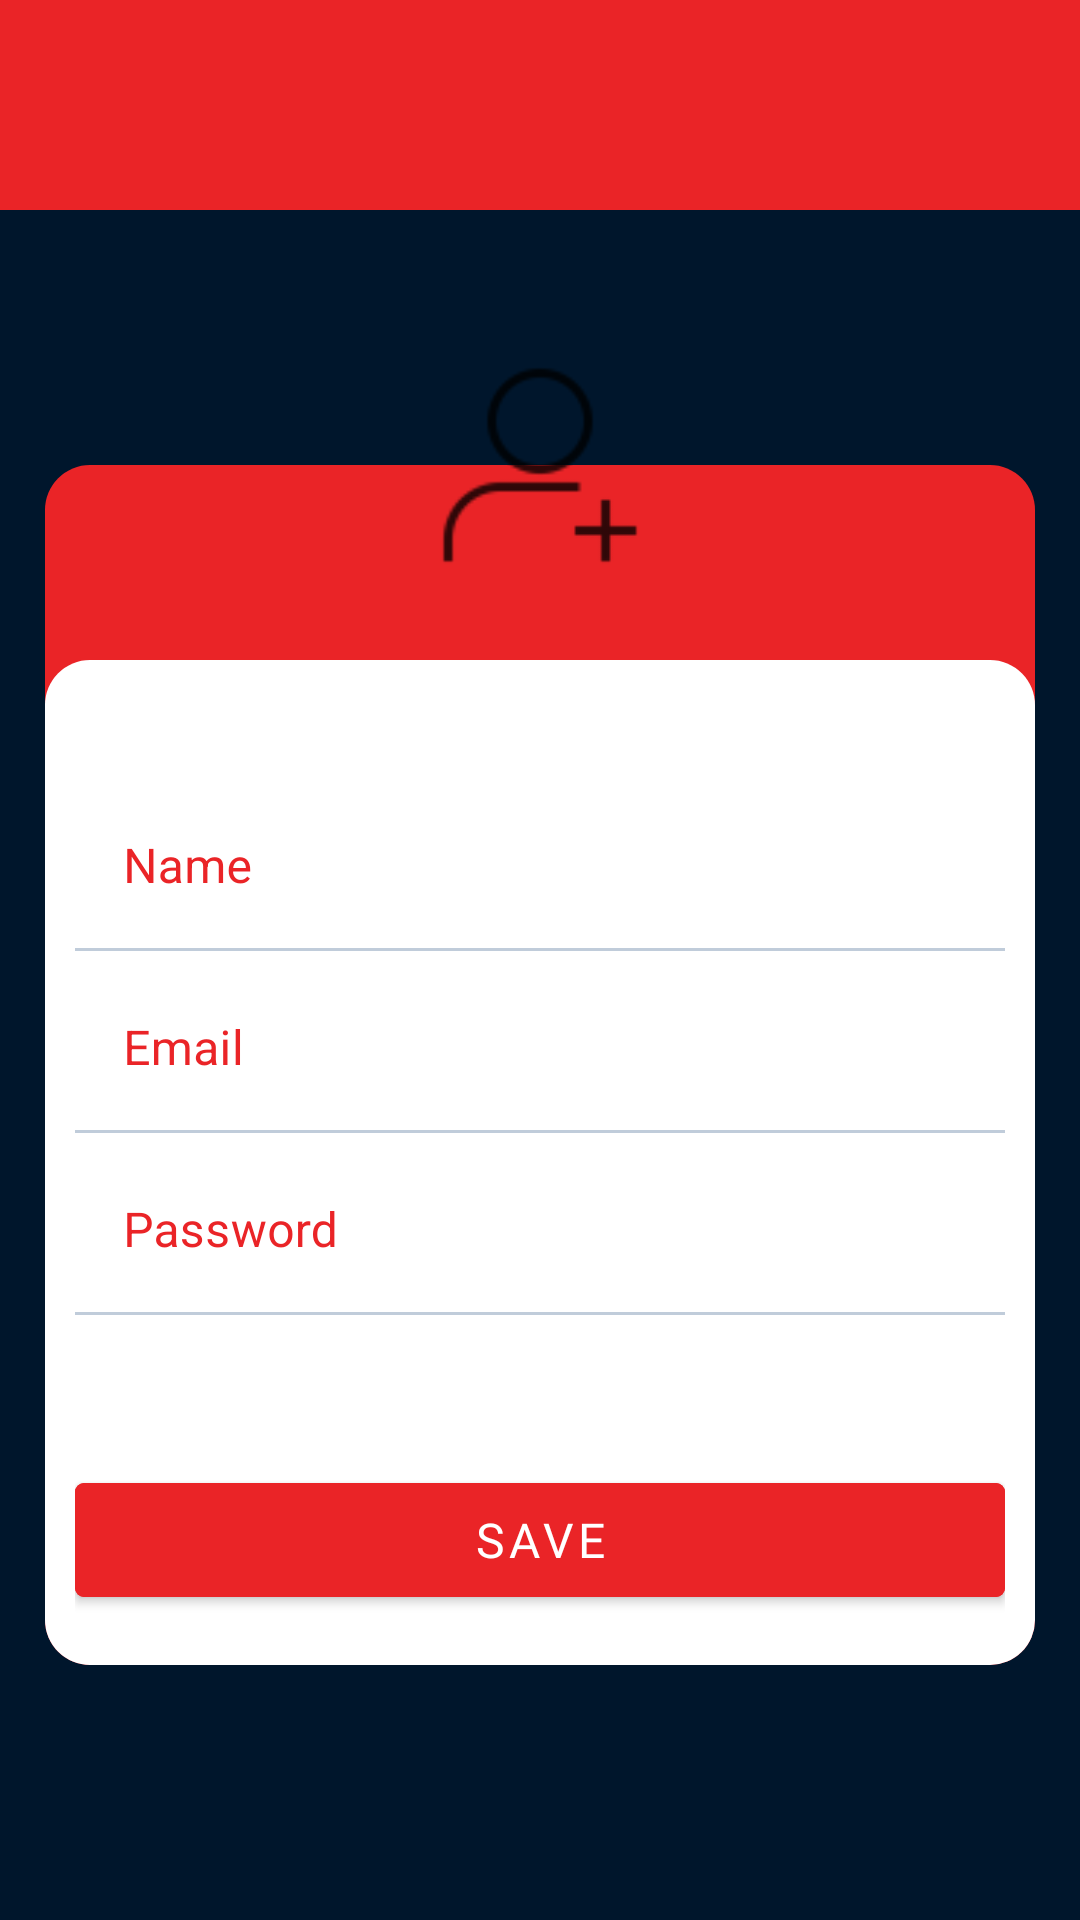

Icons on this 1080 x 1920 Android screen, each with the point to tap as (x,y):
add: (540,465)
